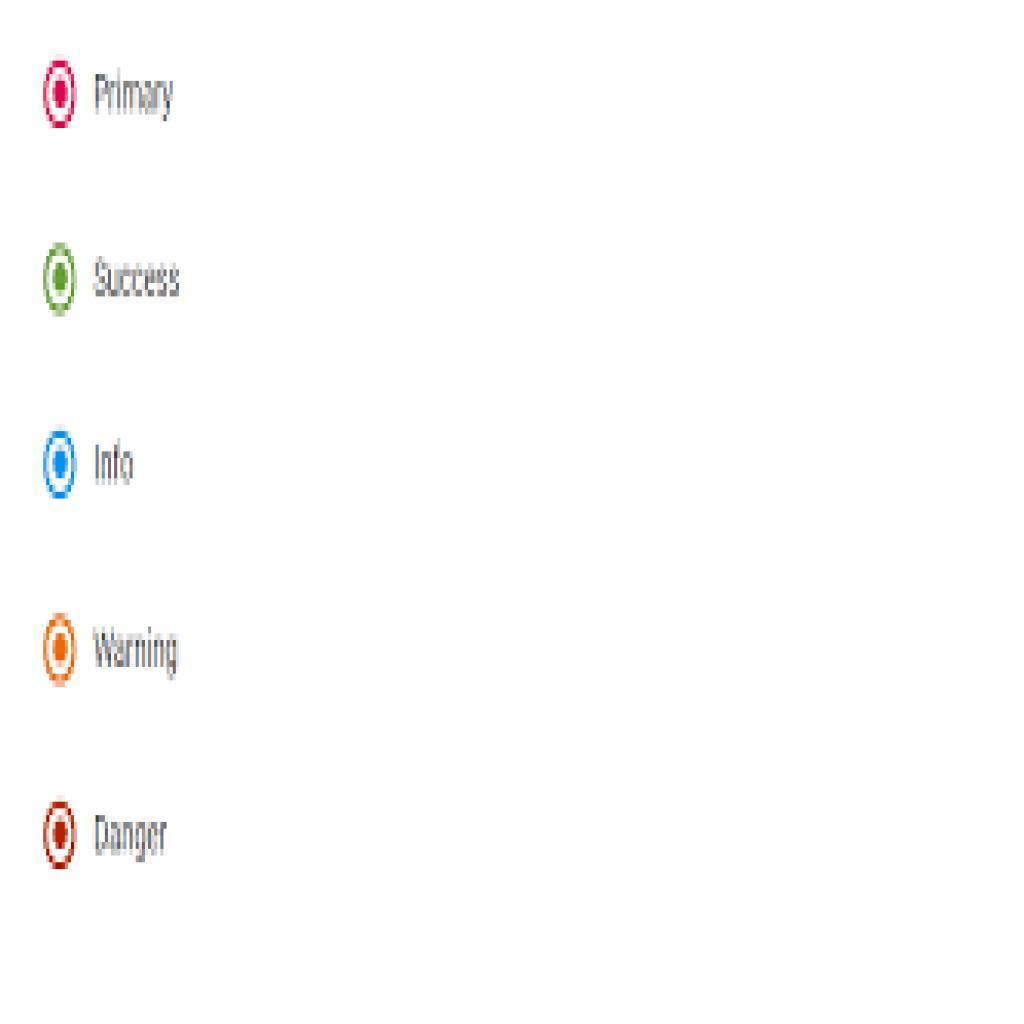label: (89, 624, 182, 682), (91, 66, 177, 127), (94, 253, 186, 304), (94, 812, 172, 869), (95, 438, 137, 487)
radio: (44, 57, 81, 134), (43, 243, 78, 320), (43, 803, 80, 875), (45, 611, 78, 691), (41, 431, 78, 499)
